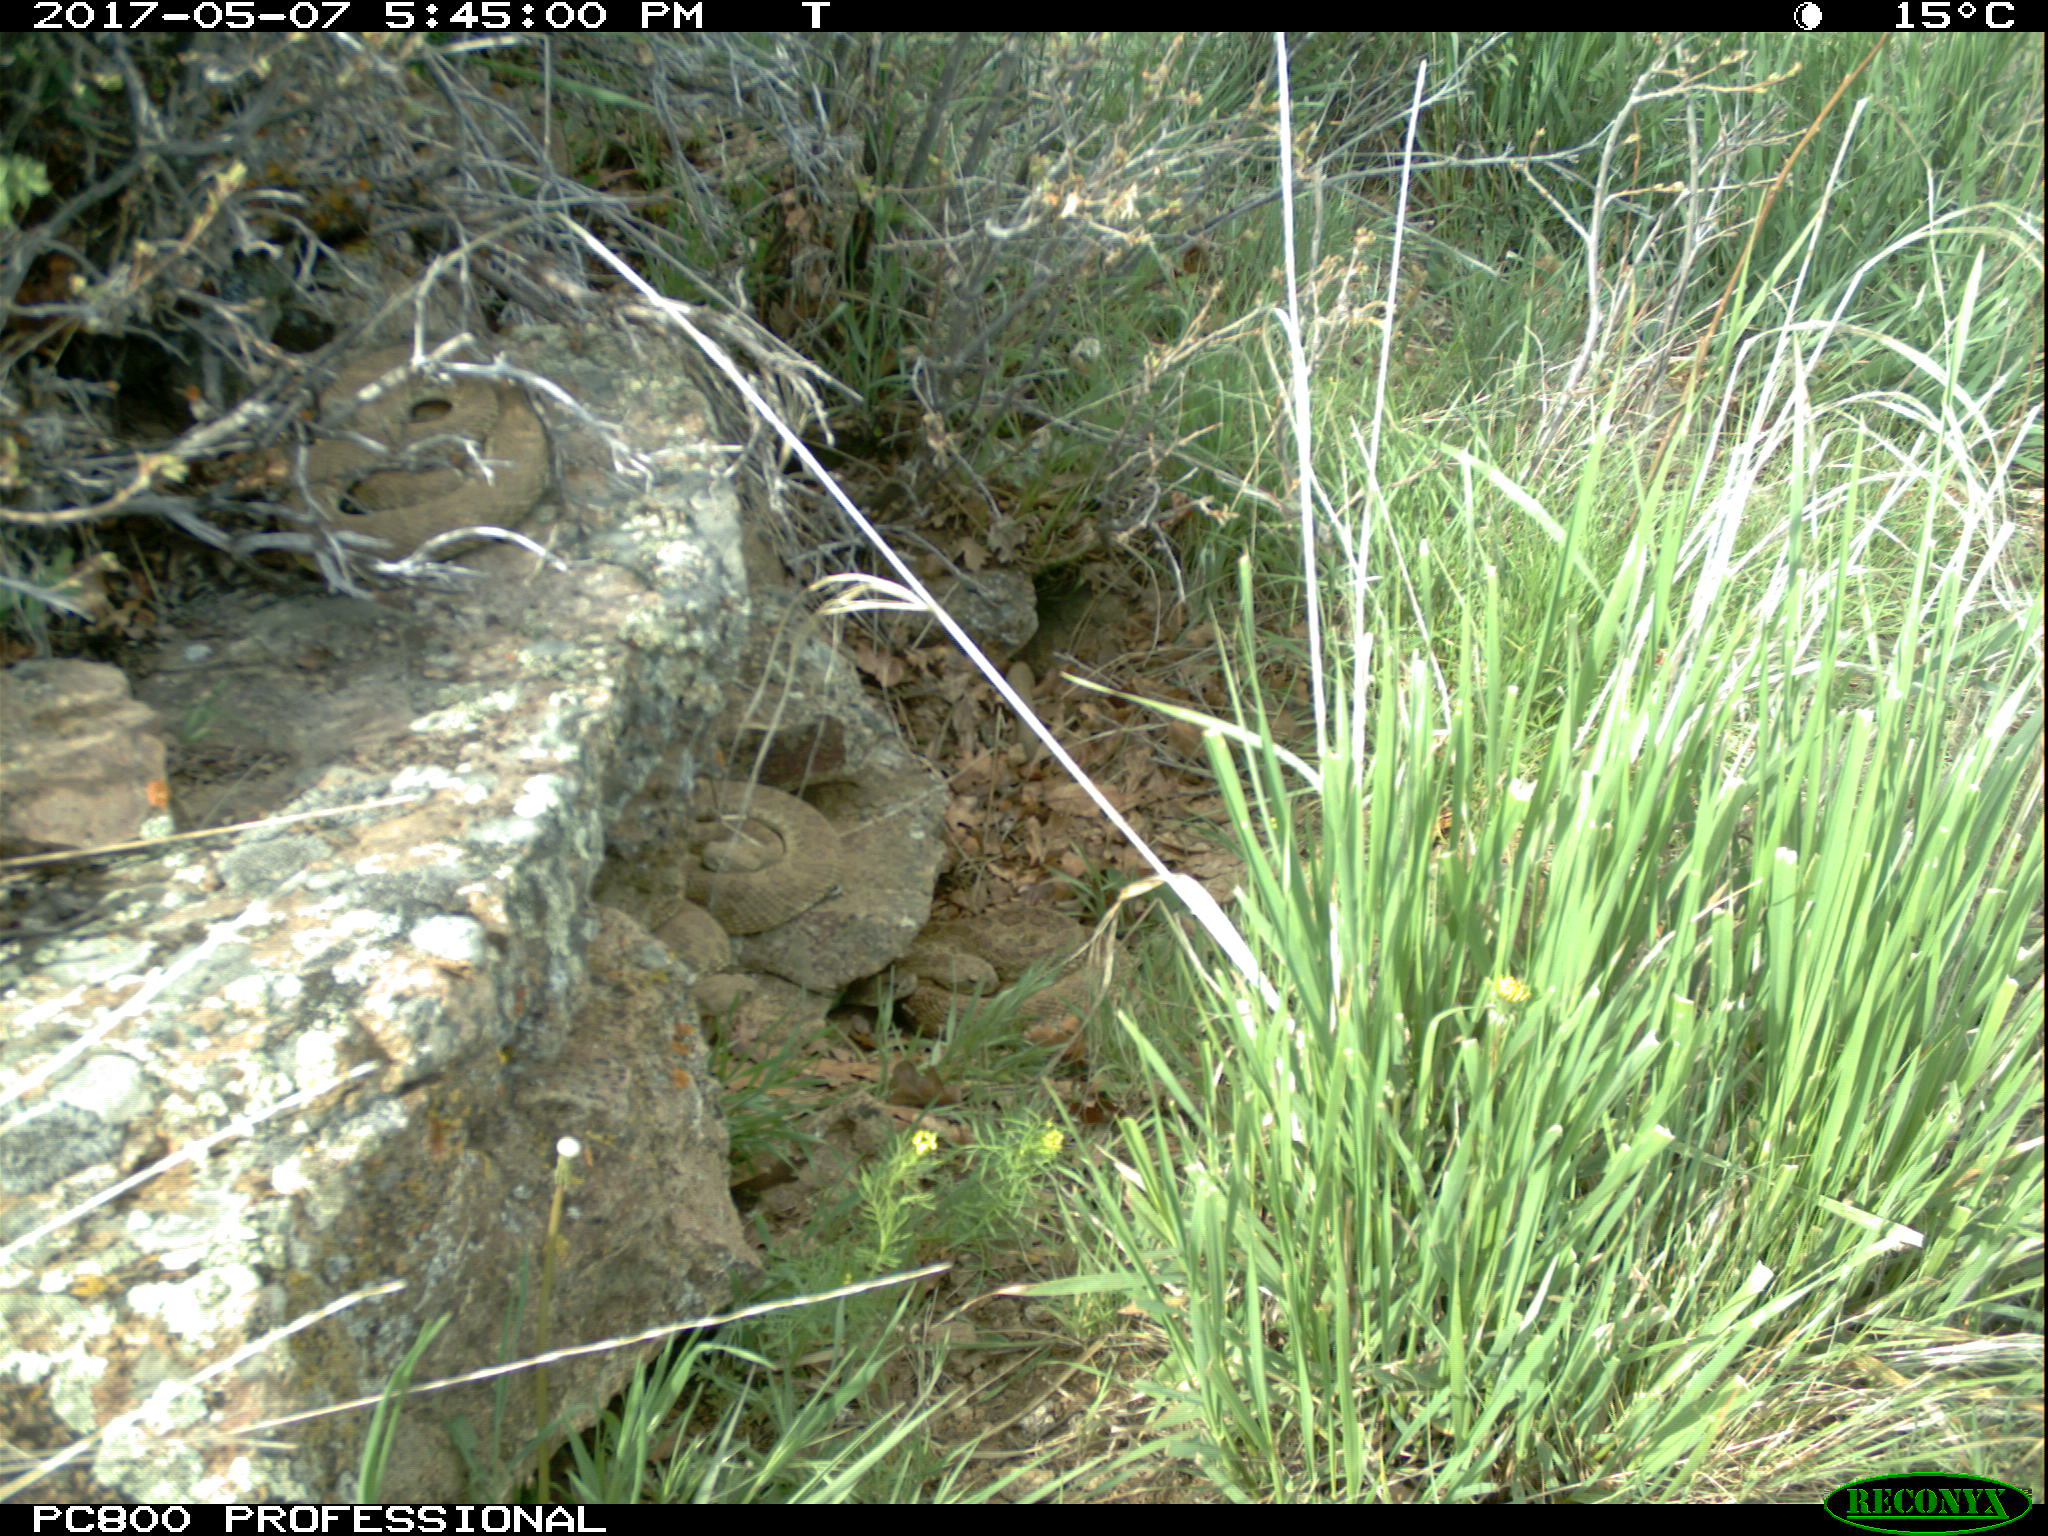snake: (289, 331, 566, 578), (634, 774, 847, 958), (905, 899, 1156, 1041)
